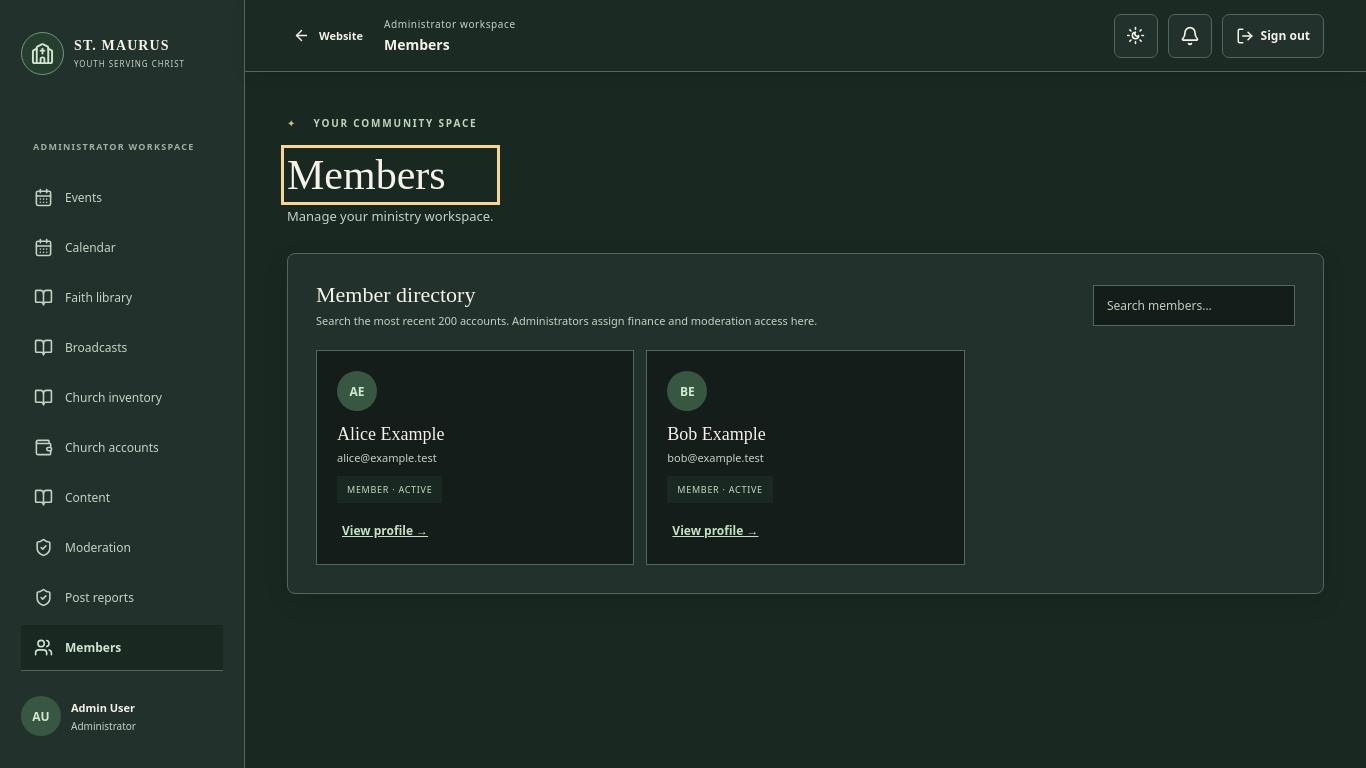
Test: configured workspace › shows real admin overview data and filters the member list
The image size is (1366, 768).
Earlier steps of the test are not shown.
(page scrolled)
Expected: the heading "Alice Example" is shown, x1=337 y1=424 x2=444 y2=444
Type "alice" into the field labelled "Search members". click: coordinates (1194, 305)
box: x1=1093 y1=284 x2=1295 y2=326
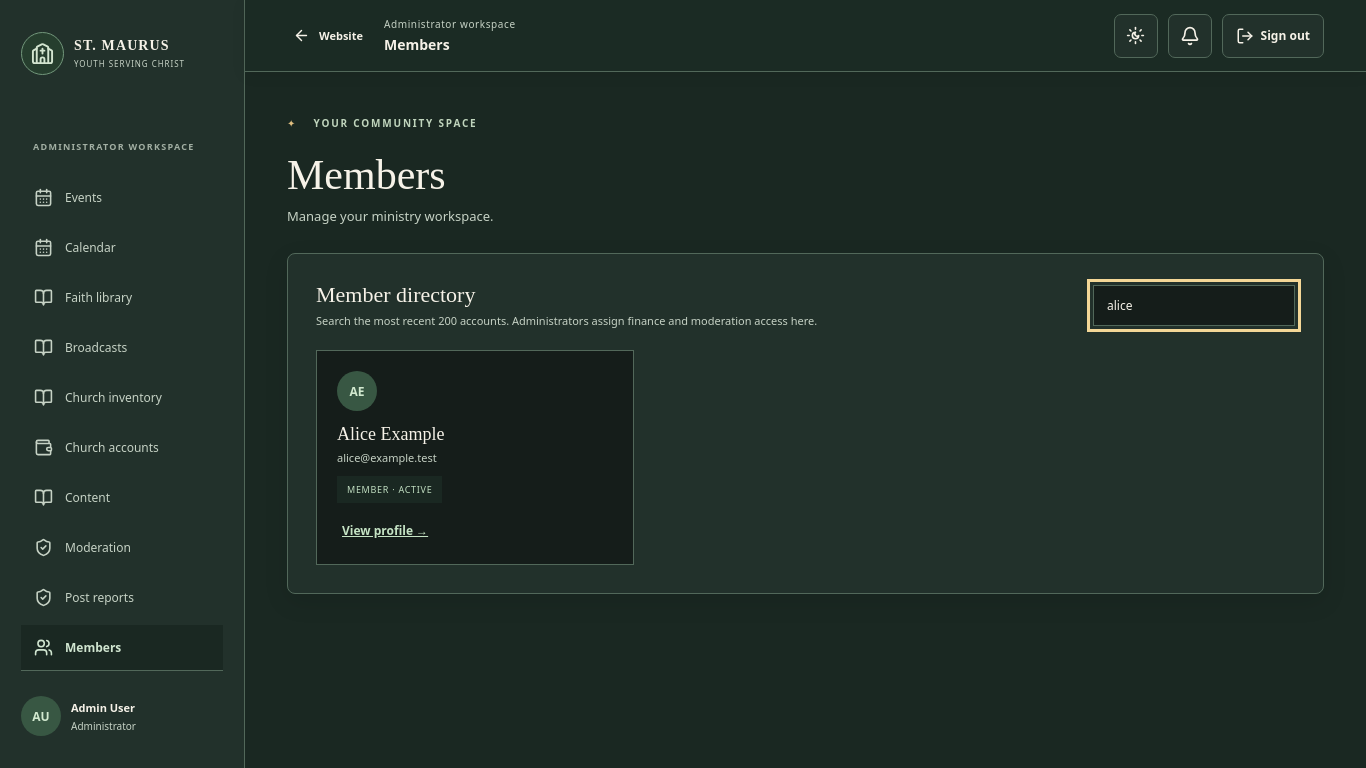
Now the heading "Bob Example" is gone
